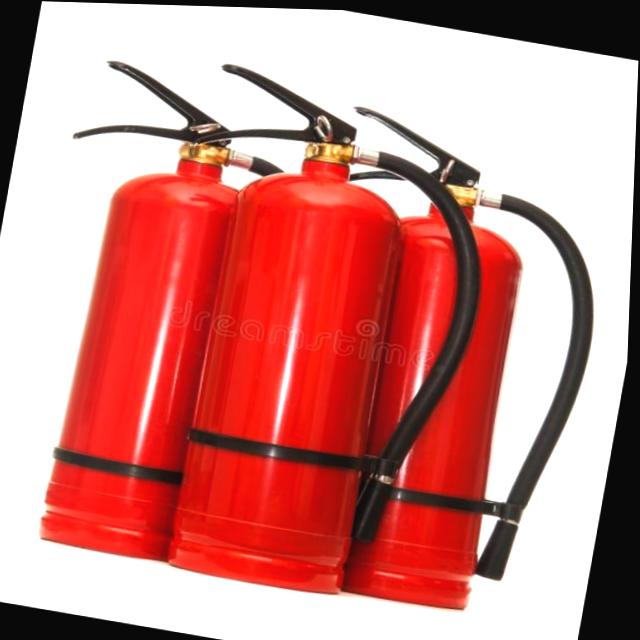FireExtinguisher: (119, 50, 519, 616), (264, 91, 633, 627), (0, 49, 358, 585)
